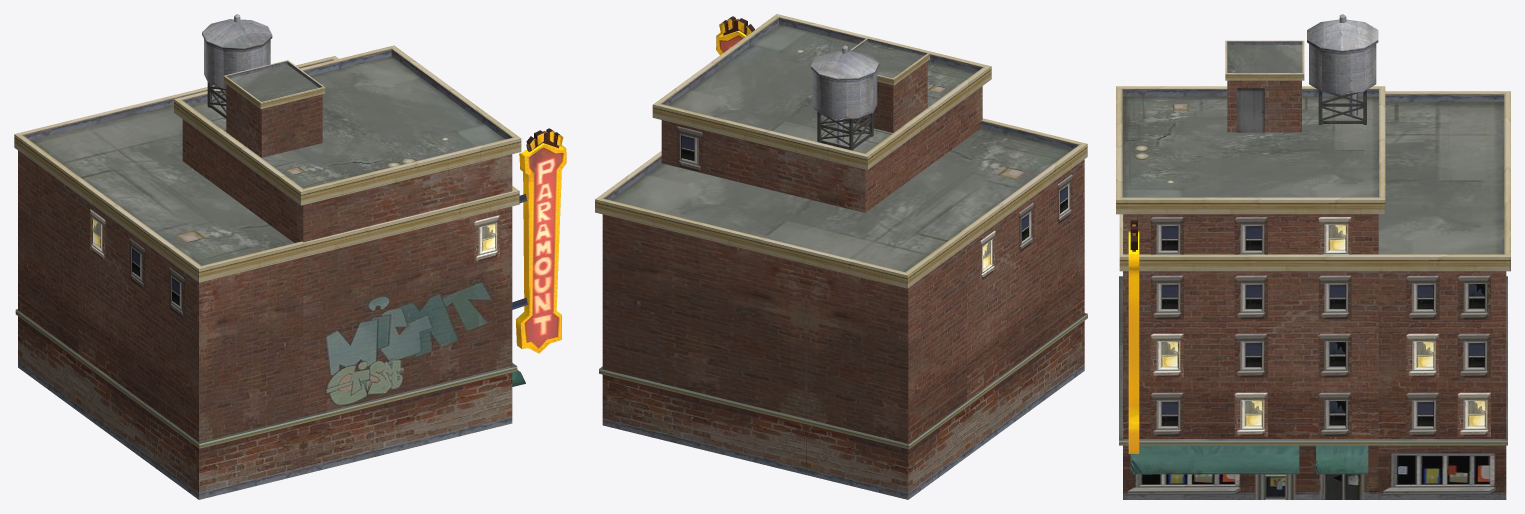
Rendered from bank.glb.
The picture shows the model from 3 angles, left to right: view 1: azimuth 30°, elevation 25°; view 2: azimuth 150°, elevation 25°; view 3: azimuth 270°, elevation 25°; orthographic projection. The views are drawn at different scales.
Visible parts, largest first — view 1: pCube6 (×2), pCube98, pCube100, pCube2, pCube99, polySurface3, pCube7, pCube102, polySurface15, polySurface1, pCube101, pPlane71 (+3 smaller); view 2: pCube6 (×2), pCube99, pCube98, pCube2, pCube101, pCube100, polySurface15, pCube102, pCube7, polySurface1, pPlane329, pPlane332 (+2 smaller); view 3: pCube6 (×2), pCube2 (×2), pCube7, polySurface15, polySurface13, polySurface1, polySurface3, polySurface14, pPlane65, pPlane66, pPlane335, pPlane338 (+15 smaller).
Part boxes in pixels (x1,y1,x2,y2): pCube6 (×2): [14, 45, 521, 416]; pCube98: [78, 195, 303, 442]; pCube100: [78, 360, 303, 499]; pCube2: [303, 372, 512, 474]; pCube99: [18, 150, 78, 353]; polySurface3: [516, 143, 566, 353]; pCube7: [223, 60, 325, 157]; pCube102: [182, 119, 303, 242]; polySurface15: [202, 19, 272, 118]; polySurface1: [15, 309, 517, 448]; pCube101: [18, 316, 78, 411]; pPlane71: [474, 215, 499, 262]; pCube6 (×2): [595, 14, 1087, 418]; pCube99: [806, 245, 966, 443]; pCube98: [967, 159, 1084, 400]; pCube2: [602, 375, 806, 474]; pCube101: [806, 407, 966, 499]; pCube100: [967, 321, 1084, 456]; polySurface15: [811, 50, 879, 150]; pCube102: [865, 86, 982, 212]; pCube7: [833, 37, 929, 132]; polySurface1: [599, 313, 1087, 449]; pPlane329: [677, 126, 703, 172]; pPlane332: [980, 230, 995, 281]; pCube6 (×2): [1116, 86, 1510, 438]; pCube2 (×2): [1123, 445, 1506, 499]; pCube7: [1225, 40, 1304, 132]; polySurface15: [1307, 19, 1378, 124]; polySurface13: [1130, 445, 1299, 474]; polySurface1: [1119, 276, 1507, 445]; polySurface3: [1128, 231, 1139, 453]; polySurface14: [1316, 445, 1368, 474]; pPlane65: [1234, 275, 1267, 319]; pPlane66: [1318, 275, 1351, 319]; pPlane335: [1406, 392, 1439, 436]; pPlane338: [1406, 275, 1439, 319].
Bounding box in the file's own units: 2136 × 2059 × 1854.
Materials: 2 (2 with a texture image).
